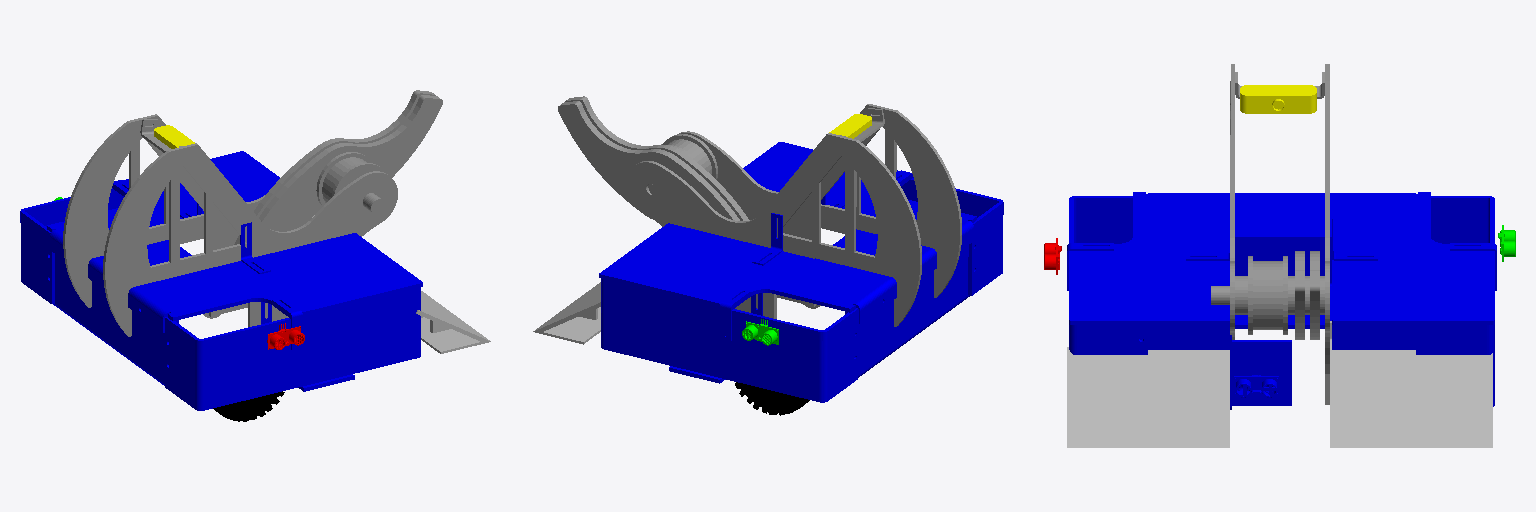
The robot description file, URDF, robot "Sumo_robot":
<?xml version="1.0"?>
<robot name="Sumo_robot" xmlns:xacro="http://www.ros.org/wiki/xacro" >
    <link name="base_link"/>

    <!-- Chassis link -->

    <joint name="chassis_joint" type="fixed">
        <parent link="base_link"/>
        <child link="chassis"/>
        <origin xyz="0 0 0"/>
    </joint>
    <link name="chassis">
        <visual>
        <origin xyz="0.214 -0.215 0" rpy="-1.5707 3.14 0"/>
            <geometry>
                 <mesh filename="package://diff_drive_robot/meshes/body.STL"/>
            </geometry>
            <material name="Blue">
            <color rgba="0 0 1 1"/>
        </material>
        </visual>
        <collision>
            <origin xyz="0.045 0 0.0575" rpy="0 0 0"/>
            <geometry>
                <box size="0.305 0.430 0.105"/>
            </geometry>
        </collision>
        <inertial>
            <mass value="7.74"/>
            <origin xyz="0 0 0"/>
            <inertia ixx="-0.01" ixy="-0.01" ixz="0" iyy="0.27" iyz="0" izz="0.15"/>
        </inertial>

    </link>

    
 <!-- Left wheel link -->

    <joint name="left_wheel_joint" type="continuous">
        <origin xyz="-0.01 0.175 0.02" rpy="1.5708 0 0"/>
        <child link="left_wheel"/>
        <parent link="base_link"/>
        <axis xyz="0 0 1"/>
    </joint>

    <link name="left_wheel">
        <collision>
            <geometry>
                <cylinder radius="0.06" length="0.04"/>
            </geometry>
        </collision>
        <visual>
            <origin xyz="-0.057 -0.057 -0.03" rpy="0 0 0"/>
            <geometry>
               <mesh filename="package://diff_drive_robot/meshes/wheel.STL"/>
            </geometry>
            <material name="black">
                <color rgba="0.0 0.0 0.0 1.0"/>
            </material>
        </visual>
<inertial>
    <origin xyz="0 0 0"/>
    <mass value="4.82"/>
    <inertia
        ixx="0.00498"
        ixy="0.0"
        ixz="0.0"
        iyy="0.00498"
        iyz="0.0"
        izz="0.00868"/>
</inertial>
  </link>
     <!-- Right wheel link -->
    <joint name="right_wheel_joint" type="continuous">
        <origin xyz="-0.01 -0.185 0.02" rpy="1.5708 0 0"/>
        <child link="right_wheel"/>
        <parent link="base_link"/>
        <axis xyz="0 0 -1"/>
    </joint>

    <link name="right_wheel">
        <visual>
            <origin xyz="-0.057 -0.057 -0.03" rpy="0 0 0"/>
            <geometry>
               <mesh filename="package://diff_drive_robot/meshes/wheel.STL"/>
            </geometry>
            <material name="black">
                <color rgba="0.0 0.0 0.0 1.0"/>
            </material>
        </visual>
        <collision>
            <geometry>
                <cylinder radius="0.06" length="0.04"/>
            </geometry>
        </collision>
<inertial>
    <origin xyz="0 0 0"/>
    <mass value="4.82"/>
    <inertia
        ixx="0.00498"
        ixy="0.0"
        ixz="0.0"
        iyy="0.00498"
        iyz="0.0"
        izz="0.00868"/>
</inertial>
    </link>


    <joint name="castor_wheel_left_joint" type="fixed">
        <parent link="base_link"/>
        <child link="castor_wheel_left"/>
        <origin xyz="0.1 0.1 -0.035"/>
    </joint>

    <link name="castor_wheel_left">
        <visual>
            <geometry>
               <mesh filename="package://diff_drive_robot/meshes/caster_left.STL"/>
            </geometry>
            <material name="castor_material">
                <color rgba="0.62 0.62 0.62 1.0"/>
            </material>
        </visual>
        <collision>
            <geometry>
                <box size="0.06 0.06 0.06"/>
            </geometry>
        </collision>
        <inertial>
            <mass value="0.5"/>
            <origin xyz="0 0 0"/>
            <inertia ixx="0.001" ixy="0" ixz="0" iyy="0.001" iyz="0" izz="0.008"/>
        </inertial>
    </link>

    <joint name="castor_wheel_right_joint" type="fixed">
        <parent link="base_link"/>
        <child link="castor_wheel_right"/>
        <origin xyz="0.1 -0.1 -0.035"/>
    </joint>

    <link name="castor_wheel_right">
        <visual>
            <geometry>
               <mesh filename="package://diff_drive_robot/meshes/caster_right.STL"/>
            </geometry>
            <material name="castor_material">
                <color rgba="0.62 0.62 0.62 1.0"/>
            </material>
        </visual>
        <collision>
            <geometry>
                <box size="0.06 0.06 0.06"/>
            </geometry>
        </collision>
        <inertial>
            <mass value="0.5"/>
            <origin xyz="0 0 0"/>
            <inertia ixx="0.001" ixy="0" ixz="0" iyy="0.001" iyz="0" izz="0.008"/>
        </inertial>
    </link>
    
    <link name="shield_link">
        <visual>
        <origin xyz="0.18 -0.05 -0.05" rpy="-1.5707 3.14 0"/>
            <geometry>
                <mesh filename="package://diff_drive_robot/meshes/shield.STL"/>
            </geometry>
            <material name="castor_material">
                <color rgba="0.62 0.62 0.62 1.0"/>
            </material>
        </visual>
        <collision>
        <origin xyz="-0.02 0 0.086" rpy=" 0 0 0"/>
            <geometry>
                <box size="0.4 0.1 0.28 "/>
            </geometry>
        </collision>
        <inertial>
            <mass value="1.78"/>
            <origin xyz="0 0 0"/>
            <inertia ixx="0.04" ixy="0.01" ixz="0" iyx="0.01" iyy="0.03" iyz="0" izz="0.006"/>
        </inertial>
    </link>

    <joint name="shield_joint" type="fixed">
        <parent link="base_link"/>
        <child link="shield_link"/>
        <origin xyz="0.093 0 0.04"/>
    </joint>

    <link name="spinner">
        <visual>
        <origin xyz="0.14 -0.07 -0.145" rpy="-1.5707 3.14 0"/>
            <geometry>
                <mesh filename="package://diff_drive_robot/meshes/spinner.STL"/>
            </geometry>
            <material name="castor_material">
                <color rgba="0.62 0.62 0.62 1.0"/>
            </material>
        </visual>
        <collision>
            <origin xyz="0 0.025 0" rpy="0 -0.753 0"/>
            <geometry>
                <box size="0.25 0.035 0.08"/>
            </geometry>
        </collision>
        <inertial>
    <origin xyz="0 0 0"/>
    <mass value="0.5"/>
  <inertia
    ixx="0.003" ixy="0.0" ixz="0.0"
    iyy="0.06"  iyz="0.0"
    izz="0.06"/>
</inertial>
    </link>
    
    <joint name="spinner_joint" type="continuous">
        <origin xyz="0.14 0 0.1" rpy="0 0 0"/>
        <child link="spinner"/>
        <parent link="shield_link"/>
        <axis xyz="0 1 0"/>
    </joint>

    
<link name="left_ramp">
    <visual>
        <origin xyz="0.05 -0.07 0.03" rpy="-1.5707 3.14 0"/>
        <geometry>
            <mesh filename="package://diff_drive_robot/meshes/left_ramp.STL"/>
        </geometry>

        <material name="Silver">
            <color rgba="0.75 0.75 0.75 1"/>
        </material>
    </visual>

    <collision>
        <origin xyz="0.03 0.065 0.05" rpy="0 0.576 0"/>
        <geometry>
            <box size="0.164 0.165 0.005"/>
        </geometry>
    </collision>
    <inertial>
    <origin xyz="0 0 0"/>
    <mass value="7.47"/>
    <inertia
        ixx="0.18"
        ixy="-0.01"
        ixz="0"
        iyx="-0.01"
        iyy="0.27"
        iyz="0"
        izz="0.15"/>
</inertial>
</link>

<joint name="left_ramp_joint" type="fixed">
    <parent link="base_link"/>
    <child link="left_ramp"/>
    <origin xyz="0.256 0.07 -0.03"
            rpy="0 0 0"/>
</joint>

<link name="right_ramp">
    <visual>
        <origin xyz="0.05 -0.145 0.03" rpy="-1.5707 3.14 0"/>
        <geometry>
            <mesh filename="package://diff_drive_robot/meshes/right_ramp.STL"/>
        </geometry>

        <material name="Silver">
            <color rgba="0.75 0.75 0.75 1"/>
        </material>
    </visual>

    <collision>
        <origin xyz="0.03 -0.065 0.05" rpy="0 0.576 0"/>
        <geometry>
            <box size="0.164 0.165 0.005"/>
        </geometry>
    </collision>
    <inertial>
    <origin xyz="0 0 0"/>
    <mass value="7.47"/>
    <inertia
        ixx="0.18"
        ixy="-0.01"
        ixz="0"
        iyx="-0.01"
        iyy="0.27"
        iyz="0"
        izz="0.15"/>
</inertial>
</link>

<joint name="right_ramp_joint" type="fixed">
    <parent link="base_link"/>
    <child link="right_ramp"/>
    <origin xyz="0.256 -0.07 -0.03"
            rpy="0 0 0"/>
</joint>



<!-- Ultrasonic Front -->

<link name="ultrasonic_front">
    <visual>
        <origin xyz="0 0.029 0.023" rpy="-1.5708 0 -1.5708"/>
        <geometry>
            <mesh filename="package://diff_drive_robot/meshes/ultrasonic.STL"/>
        </geometry>
        <material name="Blue">
            <color rgba="0 0 1 1"/>
        </material>
    </visual>
    <inertial>
    <origin xyz="0 0 0"/>
    <mass value="0.02"/>
    <inertia
        ixx="5e-6"
        ixy="0"
        ixz="0"
        iyy="5e-6"
        iyz="0"
        izz="5e-6"/>
</inertial>
</link>

<joint name="ultrasonic_front_joint" type="fixed">
    <parent link="base_link"/>
    <child link="ultrasonic_front"/>
    <origin xyz="0.2153 -0.03 0.029" rpy="0 0 0"/>
</joint>


<!-- Ultrasonic Left -->

<link name="ultrasonic_left">
    <visual>
        <origin xyz="0 0.038 0.02" rpy="-1.5708 0 -1.5708"/>
        <geometry>
            <mesh filename="package://diff_drive_robot/meshes/ultrasonic.STL"/>
        </geometry>
        <material name="Green">
            <color rgba="0 1 0 1"/>
        </material>
    </visual>
    <inertial>
    <origin xyz="0 0 0"/>
    <mass value="0.02"/>
    <inertia
        ixx="5e-6"
        ixy="0"
        ixz="0"
        iyy="5e-6"
        iyz="0"
        izz="5e-6"/>
</inertial>
</link>

<joint name="ultrasonic_left_joint" type="fixed">
    <parent link="base_link"/>
    <child link="ultrasonic_left"/>
    <origin xyz="0 0.22 0.08" rpy="0 0 1.5708"/>
</joint>


<!-- Ultrasonic Right -->

<link name="ultrasonic_right">
    <visual>
            <origin xyz="0 0.038 0.0197" rpy="-1.5708 0 -1.5708"/>
        <geometry>
            <mesh filename="package://diff_drive_robot/meshes/ultrasonic.STL"/>
        </geometry>
        <material name="Red">
            <color rgba="1 0 0 1"/>
        </material>
    </visual>
    <inertial>
    <origin xyz="0 0 0"/>
    <mass value="0.02"/>
    <inertia
        ixx="5e-6"
        ixy="0"
        ixz="0"
        iyy="5e-6"
        iyz="0"
        izz="5e-6"/>
</inertial>
</link>

<joint name="ultrasonic_right_joint" type="fixed">
    <parent link="base_link"/>
    <child link="ultrasonic_right"/>
    <origin xyz="0 -0.22 0.08" rpy="0 0 -1.5708"/>
</joint>
    
    <!-- IMU Sensor -->
    <joint name="imu_joint" type="fixed">
        <origin xyz="0 0 0" rpy="0 0 0" />
        <parent link="base_link"/>
        <child link="imu_link" />
    </joint>

    <link name="imu_link" />

<link name="camera">
    <visual>
        <origin xyz="0.02 -0.04 0" rpy="0 0 1.5707"/>
        <geometry>
            <mesh filename="package://diff_drive_robot/meshes/camera.STL"/>
        </geometry>
<material name="Yellow">
    <color rgba="1 1 0 1"/>
</material>
    </visual>

    <inertial>
    <origin xyz="0 0 0"/>
    <mass value="0.08"/>
    <inertia
        ixx="2e-5"
        ixy="0"
        ixz="0"
        iyy="2e-5"
        iyz="0"
        izz="2e-5"/>
</inertial>
</link>

<joint name="camera_joint" type="fixed">
    <parent link="shield_link"/>
    <child link="camera"/>
    <origin xyz="-0.1 0 0.2" rpy="0 0 0"/>
</joint>


        <!-- Gazebo Parameters -->
    <gazebo reference="left_wheel">
        <mu1>1.0</mu1>
        <mu2>1.0</mu2>
    </gazebo>

    <gazebo reference="right_wheel">
        <mu1>1.0</mu1>
        <mu2>1.0</mu2>
    </gazebo>

    <gazebo reference="castor_wheel_right">
        <mu1>0.000001</mu1>
        <mu2>0.000001</mu2>
    </gazebo>

    <gazebo reference="castor_wheel_left">
        <mu1>0.000001</mu1>
        <mu2>0.000001</mu2>
    </gazebo>

    <gazebo reference="castor_wheel_left_joint">
    <kp>100000.0</kp>
    <kd>10.0</kd>
</gazebo>

<gazebo reference="castor_wheel_right_joint">
    <kp>100000.0</kp>
    <kd>10.0</kd>
</gazebo>


    <gazebo>
        <plugin
        filename="gz-sim-odometry-publisher-system"
        name="gz::sim::systems::OdometryPublisher">
        <odom_frame>odom</odom_frame>
        <robot_base_frame>base_link</robot_base_frame>
        <odom_publish_frequency>50</odom_publish_frequency>
        <odom_topic>/odom</odom_topic>
        <tf_topic>/tf</tf_topic>
        <dimensions>2</dimensions>
        </plugin>
      
        <plugin filename="gz-sim-joint-state-publisher-system" name="gz::sim::systems::JointStatePublisher">
            <topic>joint_states</topic>
            <joint_name>right_wheel_joint</joint_name>
            <joint_name>left_wheel_joint</joint_name>
            <joint_name>spinner_joint</joint_name>
        </plugin>
    
    </gazebo>

    <gazebo>
    <plugin filename="gz-sim-diff-drive-system" name="gz::sim::systems::DiffDrive">

        <left_joint>left_wheel_joint</left_joint>
        <right_joint>right_wheel_joint</right_joint>

        <wheel_separation>0.331</wheel_separation>
        <wheel_diameter>0.12</wheel_diameter>

        <command_topic>cmd_vel</command_topic>
        <odometry_topic>odom</odometry_topic>
        <odometry_frame>odom</odometry_frame>
        <robot_base_frame>base_link</robot_base_frame>

        <publish_odom>true</publish_odom>
        <publish_wheel_tf>true</publish_wheel_tf>

    </plugin>
</gazebo>

<gazebo reference="imu_link">
        <sensor name="imu" type="imu">
        <always_on>true</always_on>
        <update_rate>200</update_rate>
        <visualize>true</visualize>
        <topic>imu</topic>
        <enable_metrics>true</enable_metrics>
        </sensor>
</gazebo>


<gazebo reference="ultrasonic_front">
    <sensor name="front_sensor" type="gpu_lidar">
        <update_rate>20</update_rate>
        <topic>ultrasonic</topic>
        <ray>
            <scan>
                <horizontal>
                    <samples>1</samples>
                    <resolution>1</resolution>
                    <min_angle>0</min_angle>
                    <max_angle>0</max_angle>
                </horizontal>
            </scan>
            <range>
                <min>0.02</min>
                <max>3.0</max>
                <resolution>0.01</resolution>
            </range>
        </ray>
    </sensor>
</gazebo>

<gazebo reference="ultrasonic_left">
    <sensor name="left_sensor" type="gpu_lidar">
        <always_on>true</always_on>
        <update_rate>20</update_rate>
        <visualize>true</visualize>
        <topic>ultrasonic</topic>
        <ray>
            <scan>
                <horizontal>
                    <samples>1</samples>
                    <resolution>1</resolution>
                    <min_angle>0</min_angle>
                    <max_angle>0</max_angle>
                </horizontal>
            </scan>
            <range>
                <min>0.02</min>
                <max>3.0</max>
                <resolution>0.01</resolution>
            </range>
        </ray>
    </sensor>
</gazebo>

<gazebo reference="ultrasonic_right">
    <sensor name="right_sensor" type="gpu_lidar">
        <always_on>true</always_on>
        <update_rate>20</update_rate>
        <visualize>true</visualize>
        <topic>ultrasonic</topic>
        <ray>
            <scan>
                <horizontal>
                    <samples>1</samples>
                    <resolution>1</resolution>
                    <min_angle>0</min_angle>
                    <max_angle>0</max_angle>
                </horizontal>
            </scan>
            <range>
                <min>0.02</min>
                <max>3.0</max>
                <resolution>0.01</resolution>
            </range>
        </ray>
    </sensor>
</gazebo>
    
    <gazebo reference="camera">
    <sensor name="camera_sensor" type="camera">
        <always_on>true</always_on>
        <update_rate>30</update_rate>
        <visualize>true</visualize>
        <topic>camera/image</topic>
        <camera>
            <horizontal_fov>1.047</horizontal_fov>
            <image>
                <width>640</width>
                <height>480</height>
                <format>R8G8B8</format>
            </image>
            <clip>
                <near>0.05</near>
                <far>20.0</far>
            </clip>
        </camera>
    </sensor>
</gazebo>
    
</robot>

--- What the picture shows (computed from the rendered views, not written in the file) ---
The picture shows the robot from 3 angles, left to right: view 1: azimuth 30°, elevation 25°; view 2: azimuth 150°, elevation 25°; view 3: azimuth 270°, elevation 25°; orthographic projection.
Robot: Sumo_robot — 15 links, 14 joints (3 continuous, 11 fixed); root link base_link; default pose: all joints at 0.
Visible links, largest first — view 1: chassis, shield_link, spinner, right_ramp, right_wheel, ultrasonic_right, camera; view 2: chassis, shield_link, spinner, left_ramp, left_wheel, ultrasonic_left, camera; view 3: chassis, left_ramp, right_ramp, spinner, shield_link, camera, ultrasonic_front.
Link boxes in pixels (left/top/right/bottom): chassis: left=20, top=151, right=422, bottom=410; shield_link: left=63, top=114, right=397, bottom=336; spinner: left=234, top=90, right=442, bottom=244; right_ramp: left=416, top=291, right=490, bottom=353; right_wheel: left=213, top=391, right=284, bottom=421; ultrasonic_right: left=267, top=323, right=304, bottom=349; camera: left=154, top=125, right=194, bottom=148; chassis: left=599, top=142, right=1003, bottom=402; shield_link: left=626, top=104, right=961, bottom=326; spinner: left=558, top=96, right=749, bottom=220; left_ramp: left=533, top=282, right=600, bottom=344; left_wheel: left=735, top=382, right=809, bottom=415; ultrasonic_left: left=742, top=319, right=778, bottom=345; camera: left=829, top=114, right=871, bottom=138; chassis: left=1067, top=192, right=1496, bottom=409; left_ramp: left=1330, top=321, right=1492, bottom=447; right_ramp: left=1067, top=347, right=1229, bottom=447; spinner: left=1211, top=251, right=1324, bottom=339; shield_link: left=1230, top=64, right=1329, bottom=404; camera: left=1240, top=85, right=1316, bottom=113; ultrasonic_front: left=1234, top=369, right=1278, bottom=397.
Size in the robot's own frame: 0.5033 by 0.4756 by 0.3099 metres.
13 mesh visuals loaded from 10 distinct referenced files (10 binary STL).
